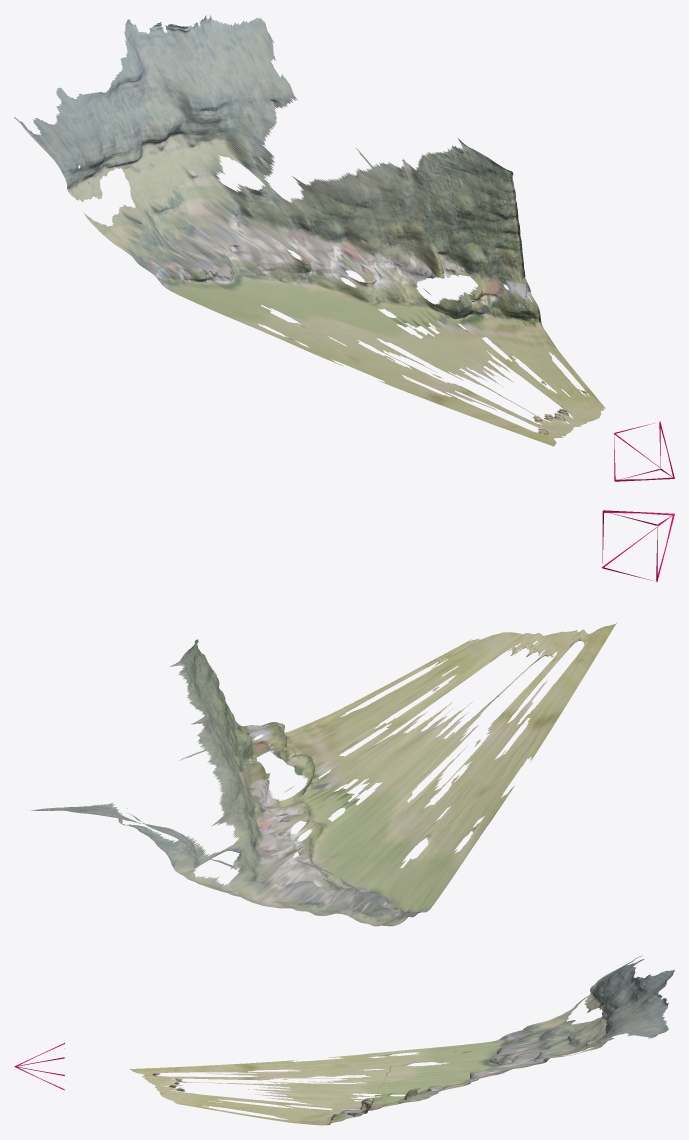
Rendered from glbscene_All_camTrue_meshTrue (1).glb.
3 renders of one model, top to bottom at view 1: azimuth 30°, elevation 25°; view 2: azimuth 150°, elevation 25°; view 3: azimuth 270°, elevation 25°, orthographic. The views are drawn at different scales.
Parts seen in each view (by area): view 1: world; view 2: world; view 3: world.
Part boxes in pixels (x1,y1,x2,y2): world: (14,15,674,481); world: (31,510,674,926); world: (14,955,674,1125).
Bounding box in the file's own units: 0.5881 × 0.2843 × 1.58.
